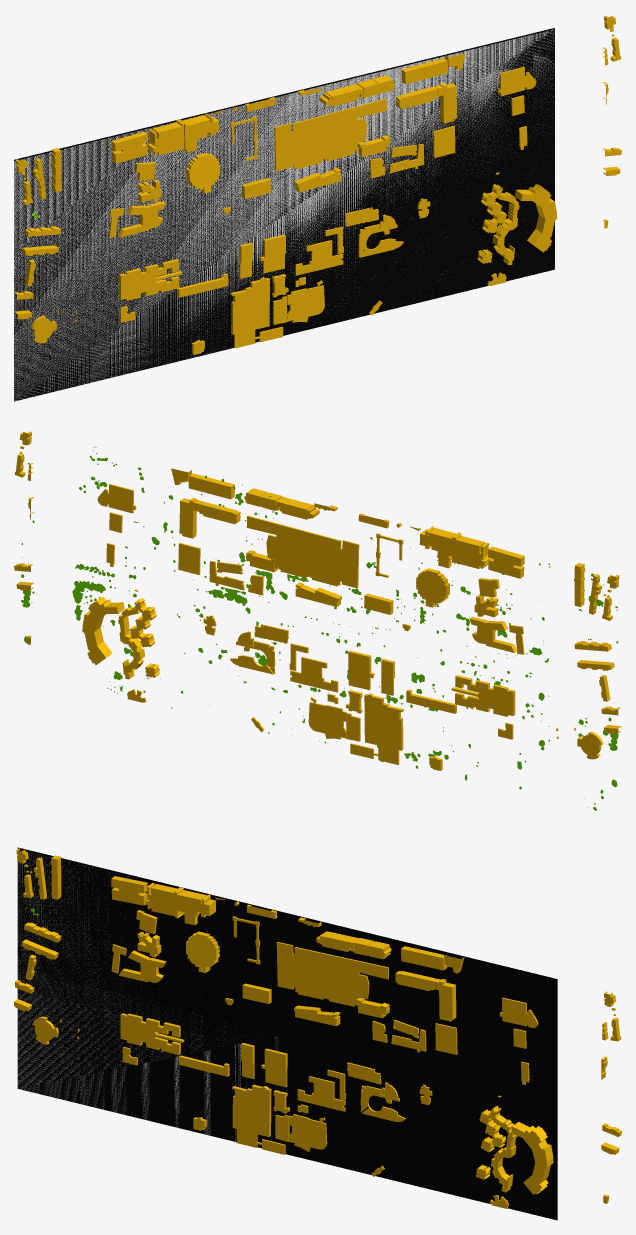
Rendered from existing_trees_03.glb.
3 views of the same model, one above another, from view 1: azimuth 30°, elevation 25°; view 2: azimuth 150°, elevation 25°; view 3: azimuth 330°, elevation 25° (orthographic).
Parts seen in each view (by area): view 1: Layer 04, base, existing_building - Copy; view 2: existing_building - Copy, treesurface; view 3: Layer 04, existing_building - Copy, base.
Part boxes in pixels (left/top/right/bottom): Layer 04: left=14, top=28, right=554, bottom=401; base: left=14, top=29, right=554, bottom=400; existing_building - Copy: left=14, top=16, right=621, bottom=354; existing_building - Copy: left=14, top=431, right=621, bottom=770; treesurface: left=21, top=446, right=618, bottom=810; Layer 04: left=17, top=847, right=557, bottom=1220; existing_building - Copy: left=14, top=848, right=621, bottom=1208; base: left=17, top=851, right=278, bottom=1140.
Bounding box in the file's own units: 1109 × 431 × 20.85.
